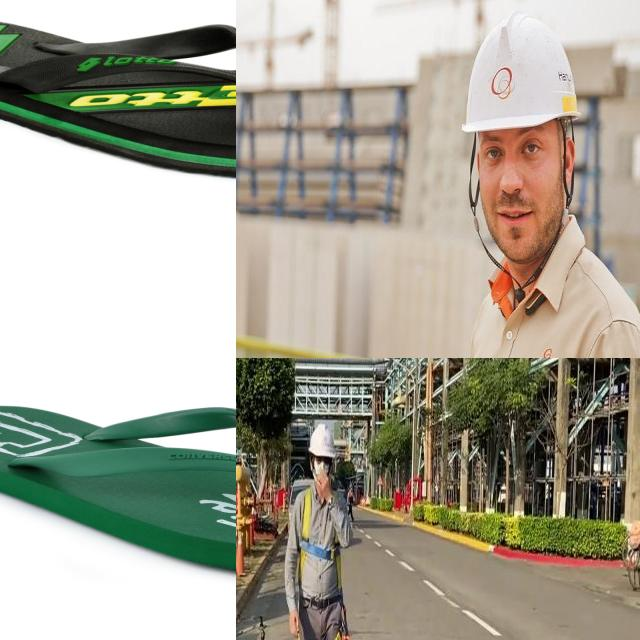Harness: (299, 489, 341, 594)
No_Ear-Protection: (466, 14, 576, 259)
Sandals: (0, 402, 236, 580), (0, 18, 236, 182)
